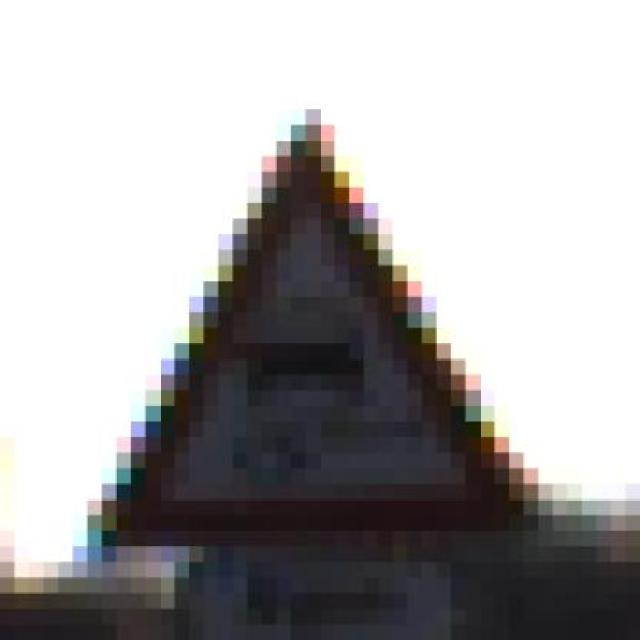Slippery Road Ahead: (58, 109, 553, 562)
